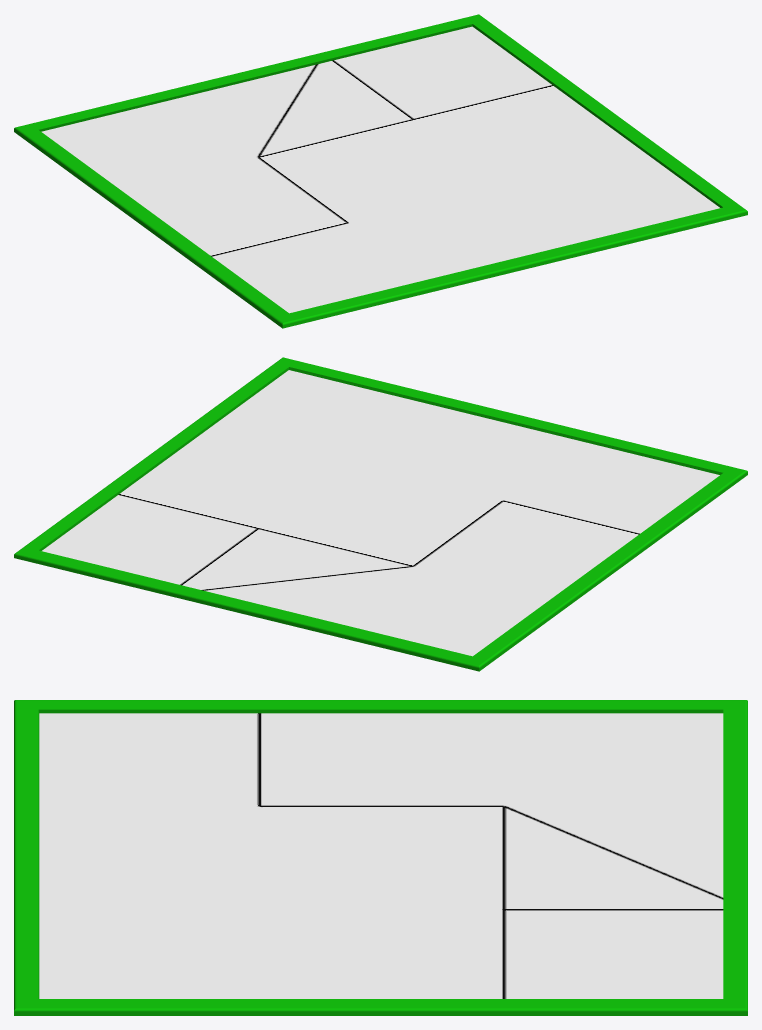
Rendered from frame3frontView.glb.
3 views of the same model, one above another, from view 1: azimuth 30°, elevation 25°; view 2: azimuth 150°, elevation 25°; view 3: azimuth 270°, elevation 25° (orthographic). The views are drawn at different scales.
Parts seen in each view (by area): view 1: Plane; view 2: Plane; view 3: Plane.
Part boxes in pixels (left/top/right/bottom): Plane: left=14, top=14, right=747, bottom=328; Plane: left=14, top=357, right=747, bottom=671; Plane: left=14, top=700, right=747, bottom=1015.
Size of the model in its own units: 2 by 0.02 by 2.
Materials: 2 (1 with a texture image).
